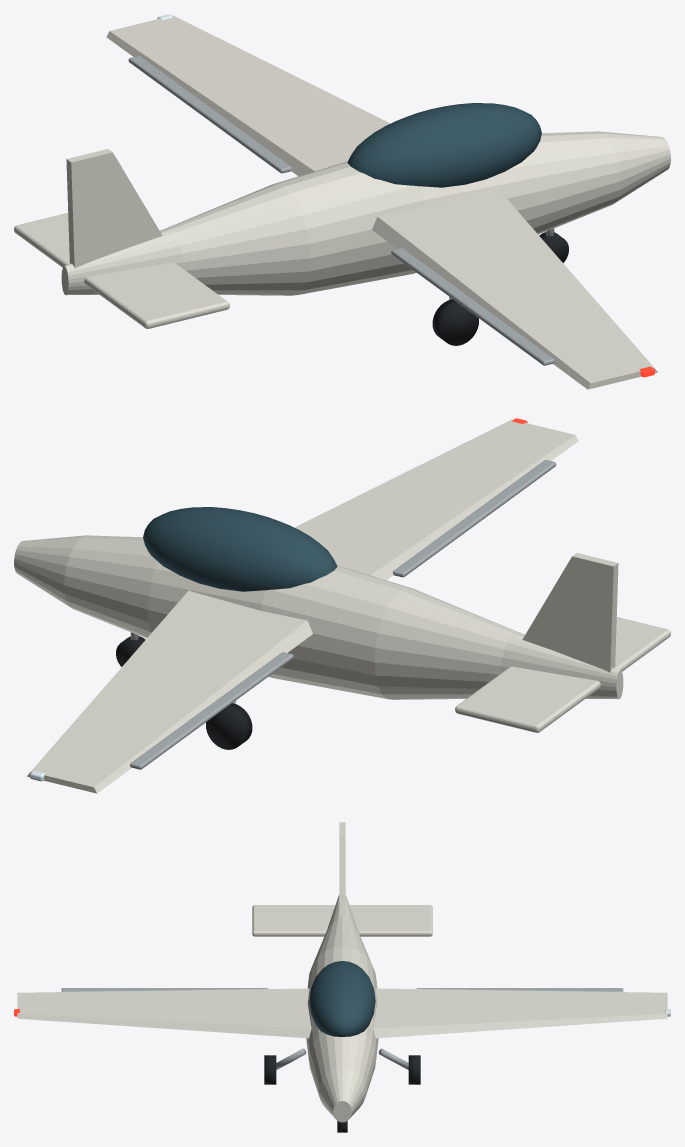
File: SM_Airplane.fbx
3 renders of one model, top to bottom at view 1: azimuth 30°, elevation 25°; view 2: azimuth 150°, elevation 25°; view 3: azimuth 270°, elevation 25°, orthographic. The views are drawn at different scales.
Parts seen in each view (by area): view 1: SM_Airplane; view 2: SM_Airplane; view 3: SM_Airplane.
Part boxes in pixels (x1,y1,x2,y2): SM_Airplane: (14,14,670,389); SM_Airplane: (14,418,670,793); SM_Airplane: (14,822,670,1132).
Bounding box in the file's own units: 790 × 1111 × 282.
